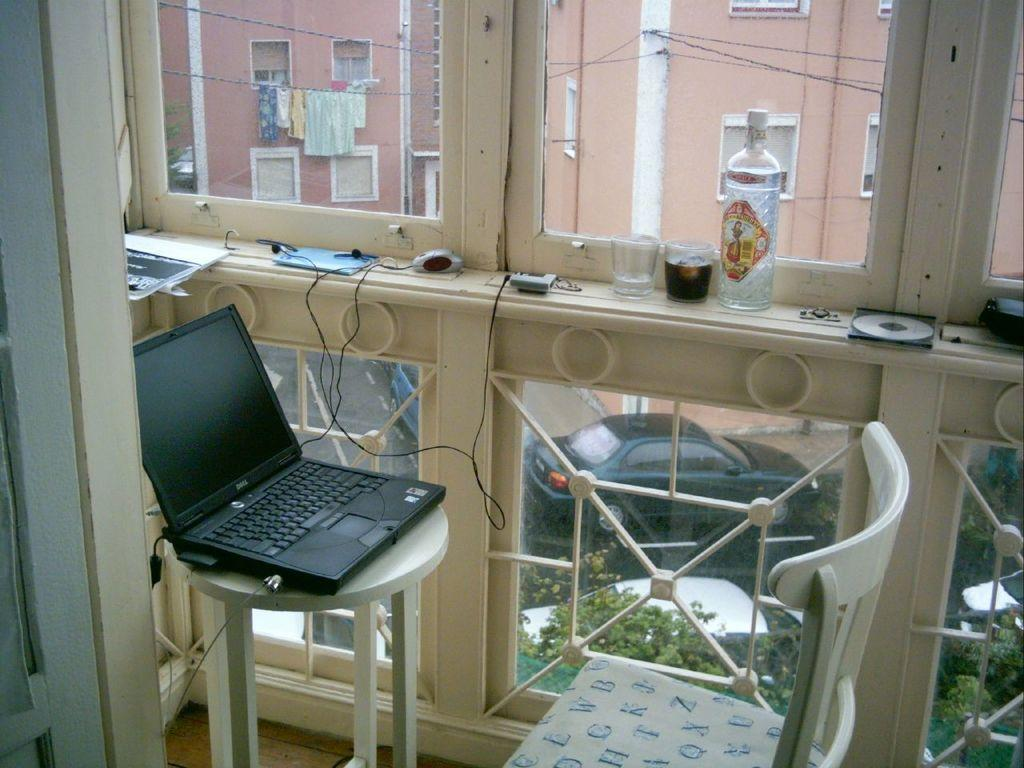Computer-keyboard: (201, 458, 385, 562)
